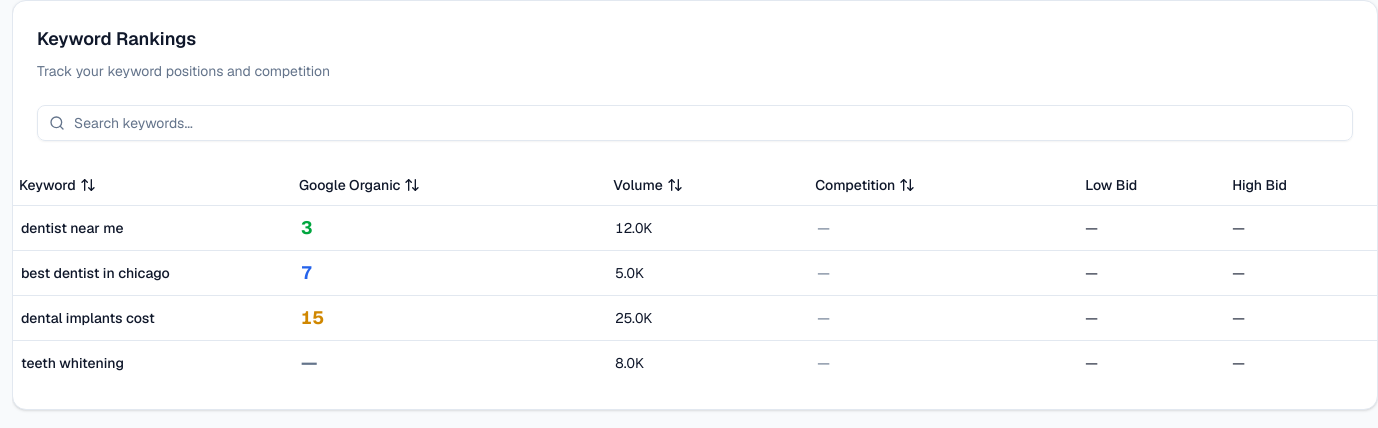
Test: KeywordTable › search functionality › filters keywords by search query
Type "dentist" into the field with placeholder "Search keywords..." at (695, 123), box left=37, top=105, right=1353, bottom=141
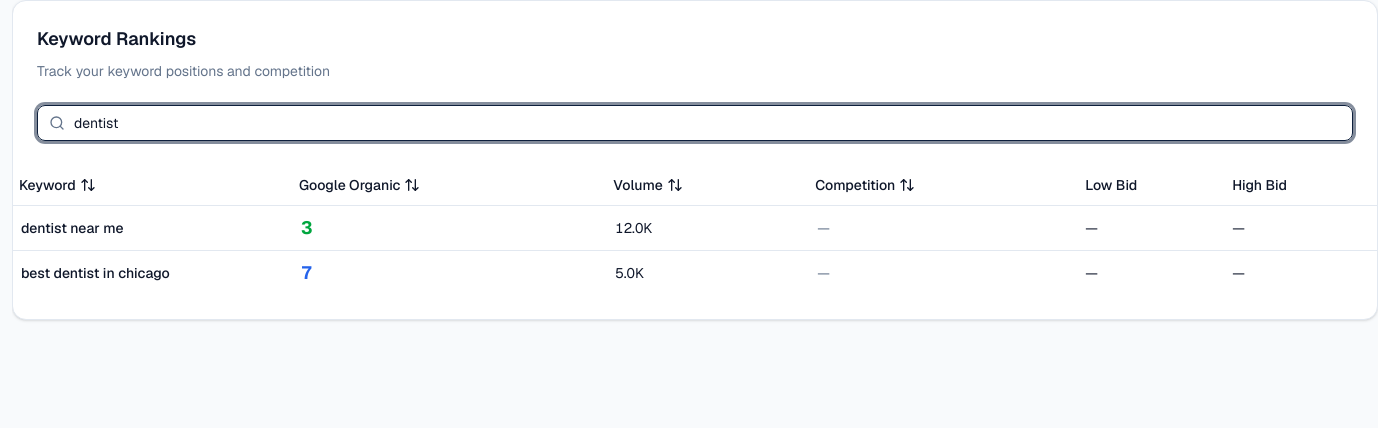
Expected: the text "dentist near me" is shown, left=21, top=218, right=124, bottom=236
Expected: the text "dental implants cost" is gone
Expected: the text "teeth whitening" is gone
